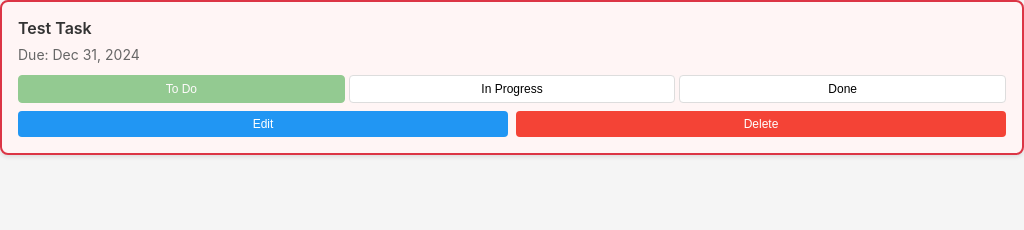
Test: TaskCard Component › enters edit mode when edit button is clicked
Click the button "Edit": (263, 124) [18, 111, 508, 137]
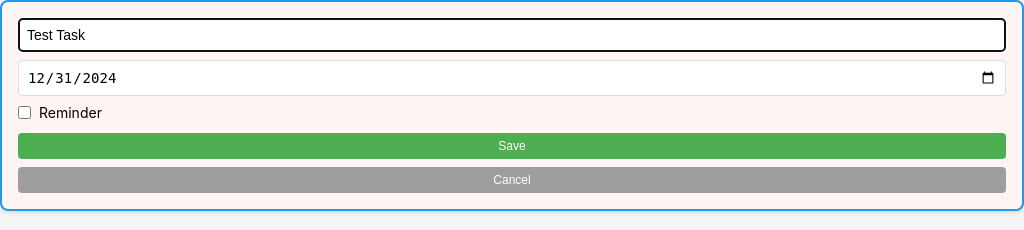
Expected: the field showing "Test Task" is shown, [18, 18, 1006, 52]
Expected: the button "Save" is shown, [18, 133, 1006, 159]
Expected: the button "Cancel" is shown, [18, 167, 1006, 193]
